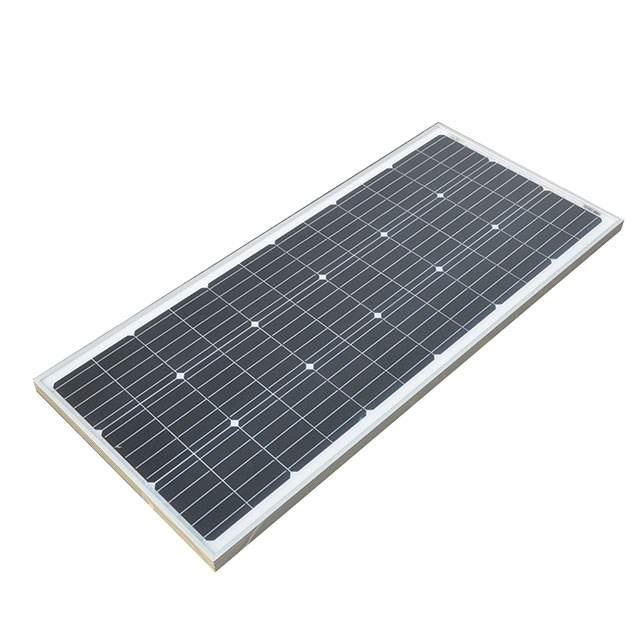clean-solar-panel: (36, 124, 622, 568)
